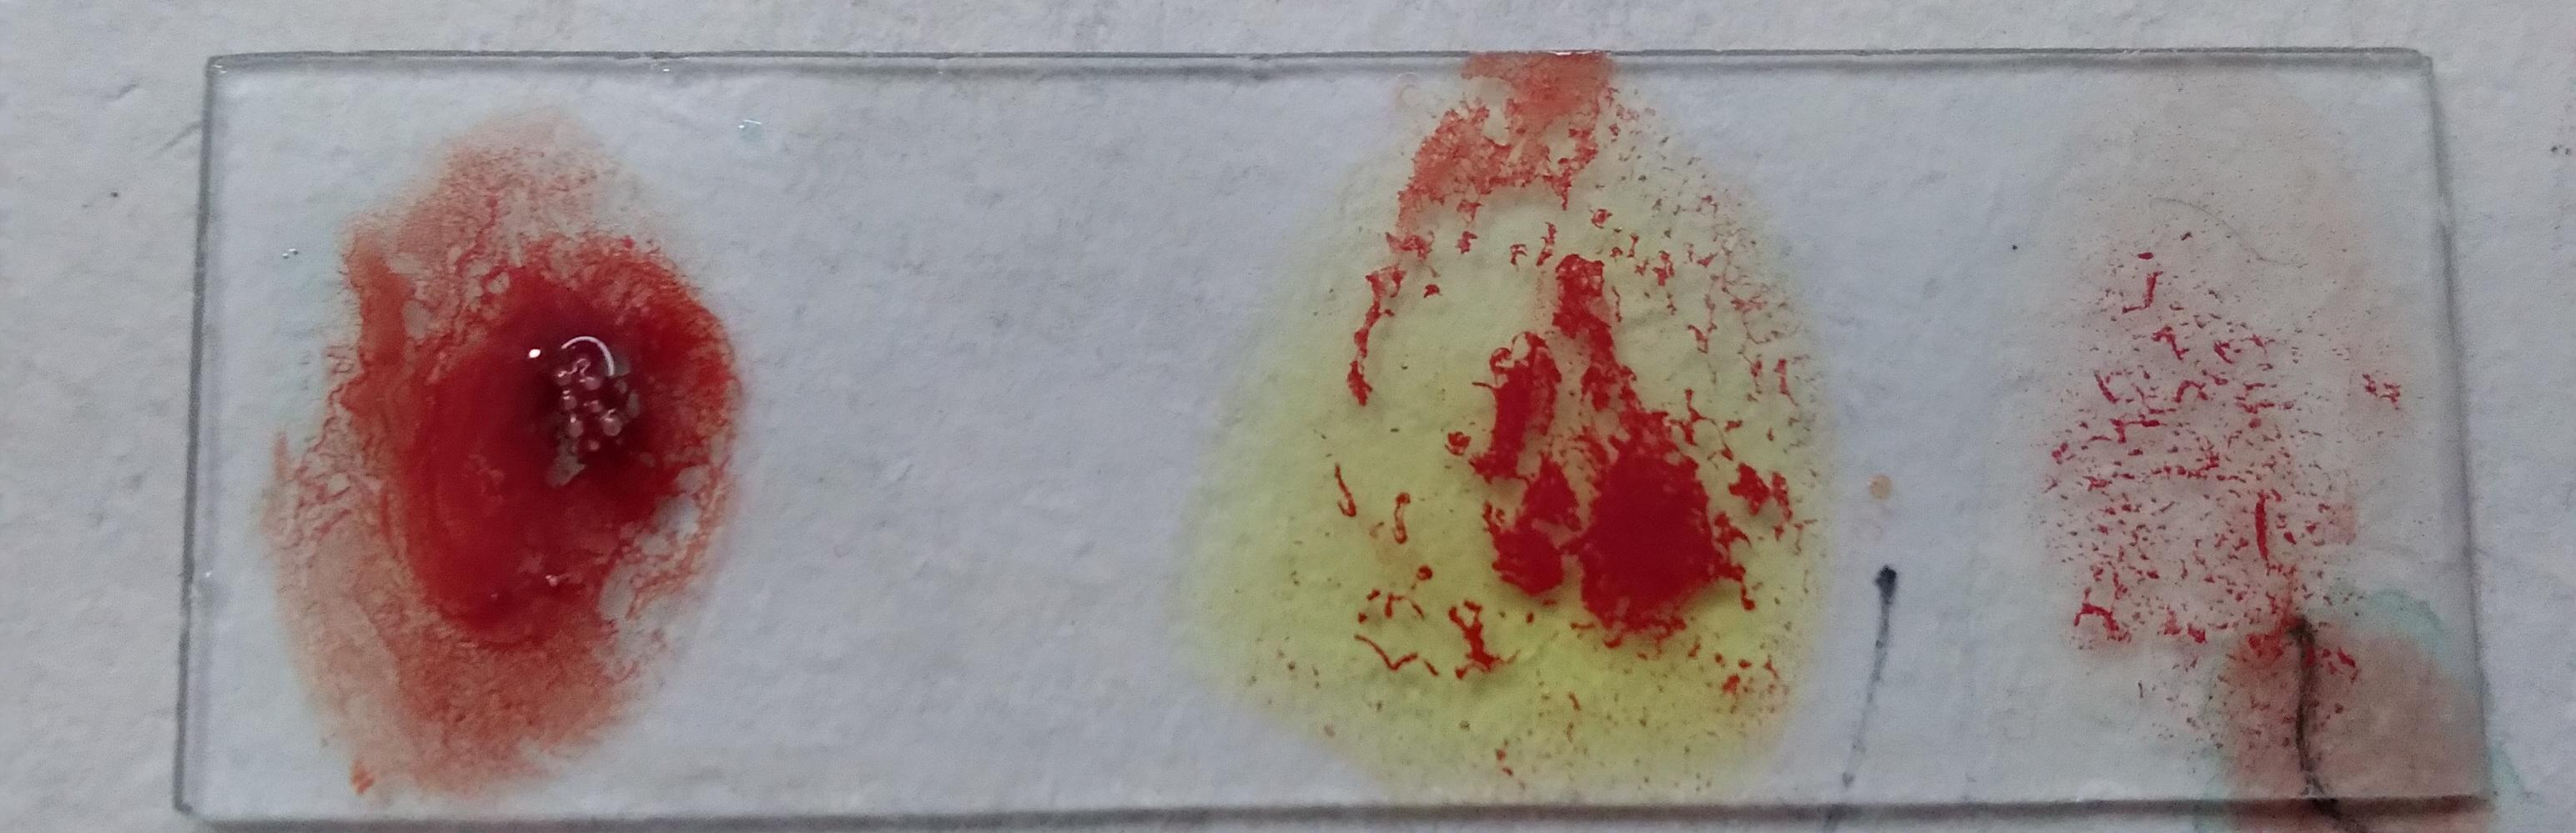A: (281, 108, 706, 771)
B: (1288, 69, 1847, 767)
D: (2063, 85, 2394, 662)
